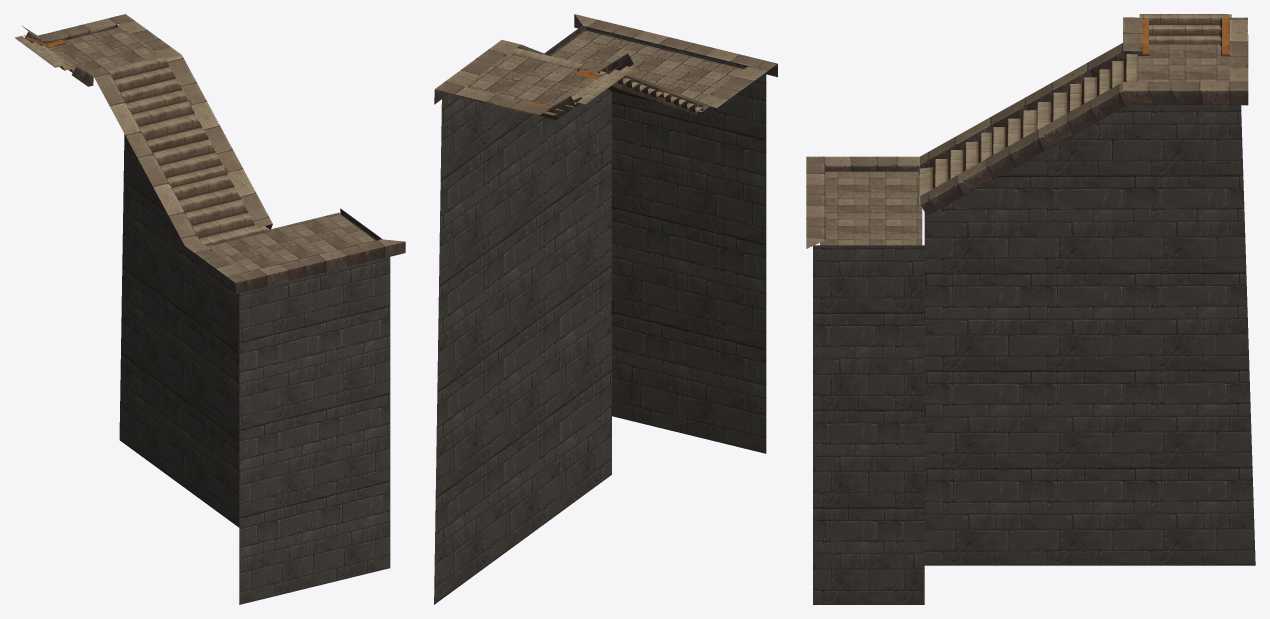
File: terrain_section03_guanka1107.FBX
The picture shows the model from 3 angles, left to right: view 1: azimuth 30°, elevation 25°; view 2: azimuth 150°, elevation 25°; view 3: azimuth 270°, elevation 25°; orthographic projection. The views are drawn at different scales.
Parts seen in each view (by area): view 1: terrain_section03_guanka1107; view 2: terrain_section03_guanka1107; view 3: terrain_section03_guanka1107.
Part boxes in pixels (x1=…): terrain_section03_guanka1107: x1=15, y1=14, x2=405, y2=604; terrain_section03_guanka1107: x1=434, y1=14, x2=777, y2=604; terrain_section03_guanka1107: x1=806, y1=14, x2=1255, y2=604.
Bounding box in the file's own units: 18.84 × 39.67 × 32.78.
